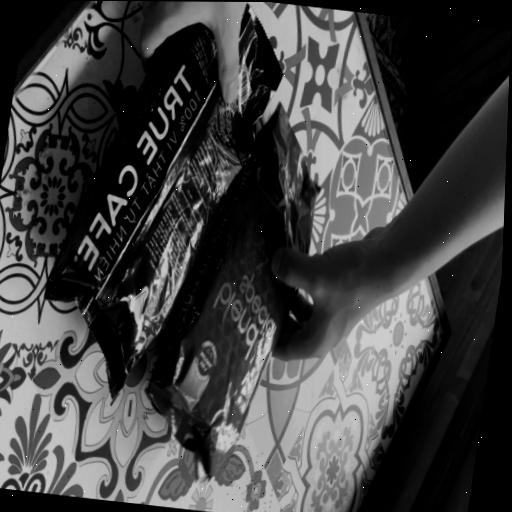cafe_hat: (45, 6, 281, 398), (79, 21, 280, 397)
cafe_xay: (148, 106, 318, 485)
